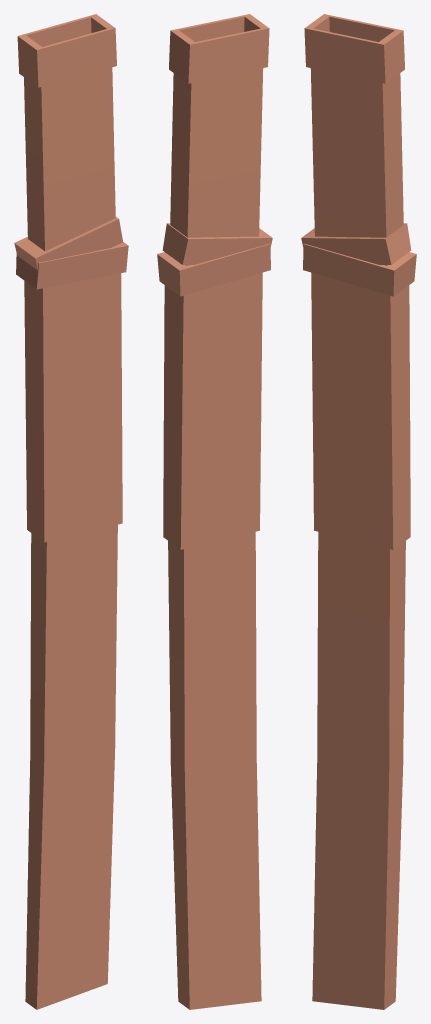
File: toy_sword_case.fbx
3 views of the same model, side by side, from view 1: azimuth 30°, elevation 25°; view 2: azimuth 210°, elevation 25°; view 3: azimuth 330°, elevation 25° (orthographic).
Visible parts, largest first — view 1: toy_sword_case; view 2: toy_sword_case; view 3: toy_sword_case.
Part boxes in pixels (x1=…): toy_sword_case: x1=14, y1=14, x2=128, y2=1009; toy_sword_case: x1=157, y1=14, x2=272, y2=1009; toy_sword_case: x1=301, y1=14, x2=416, y2=1009.
Size of the model in its own units: 10.42 by 104 by 4.35.
